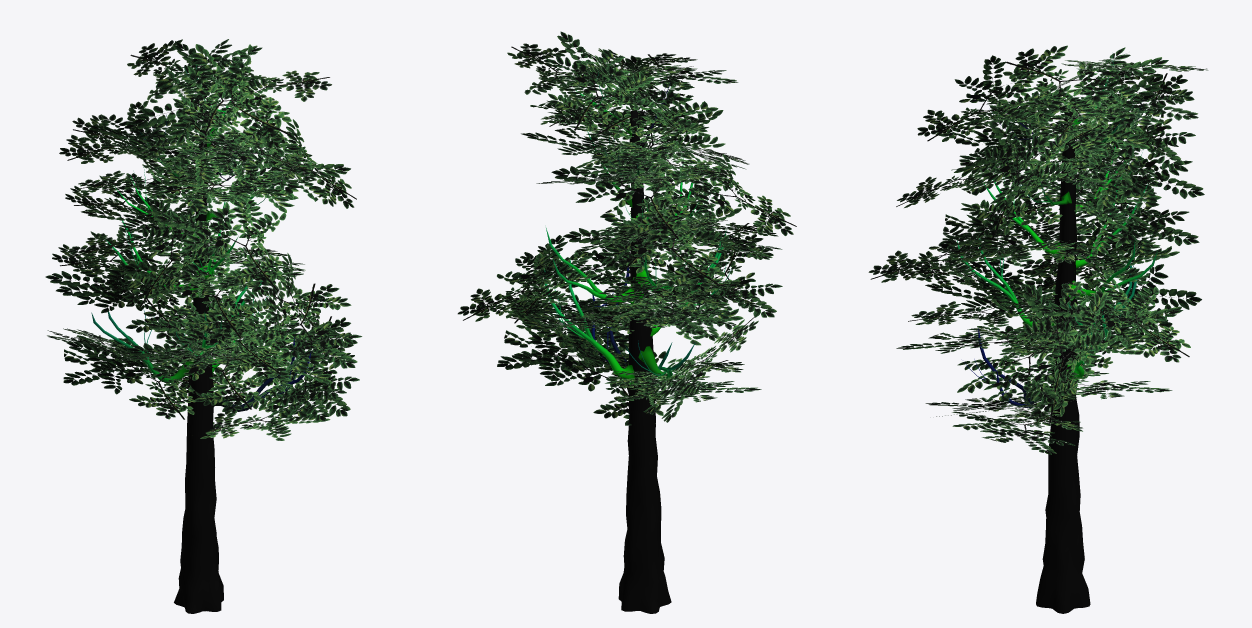
File: birch tree.fbx
3 views of the same model, side by side, from view 1: azimuth 30°, elevation 25°; view 2: azimuth 150°, elevation 25°; view 3: azimuth 270°, elevation 25° (orthographic). The views are drawn at different scales.
Visible parts, largest first — view 1: branch04_1, bark11_0; view 2: branch04_1, bark11_0; view 3: branch04_1, bark11_0.
Boxes of the visible parts, x1,y1,x2,y2 form: branch04_1: (45, 39, 362, 440); bark11_0: (91, 65, 314, 613); branch04_1: (457, 31, 796, 425); bark11_0: (544, 72, 731, 613); branch04_1: (868, 45, 1208, 454); bark11_0: (957, 56, 1157, 613).
Bounding box in the file's own units: 475 × 767 × 465.
Materials: 1 (1 with a texture image).
